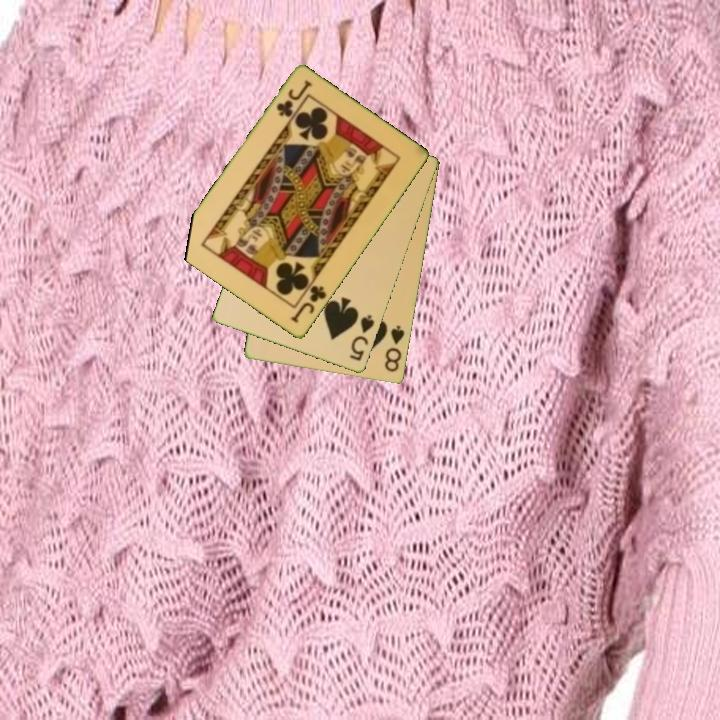5s: (346, 311, 377, 364)
8s: (381, 322, 408, 375)
Jc: (287, 282, 329, 326), (273, 77, 314, 121)
